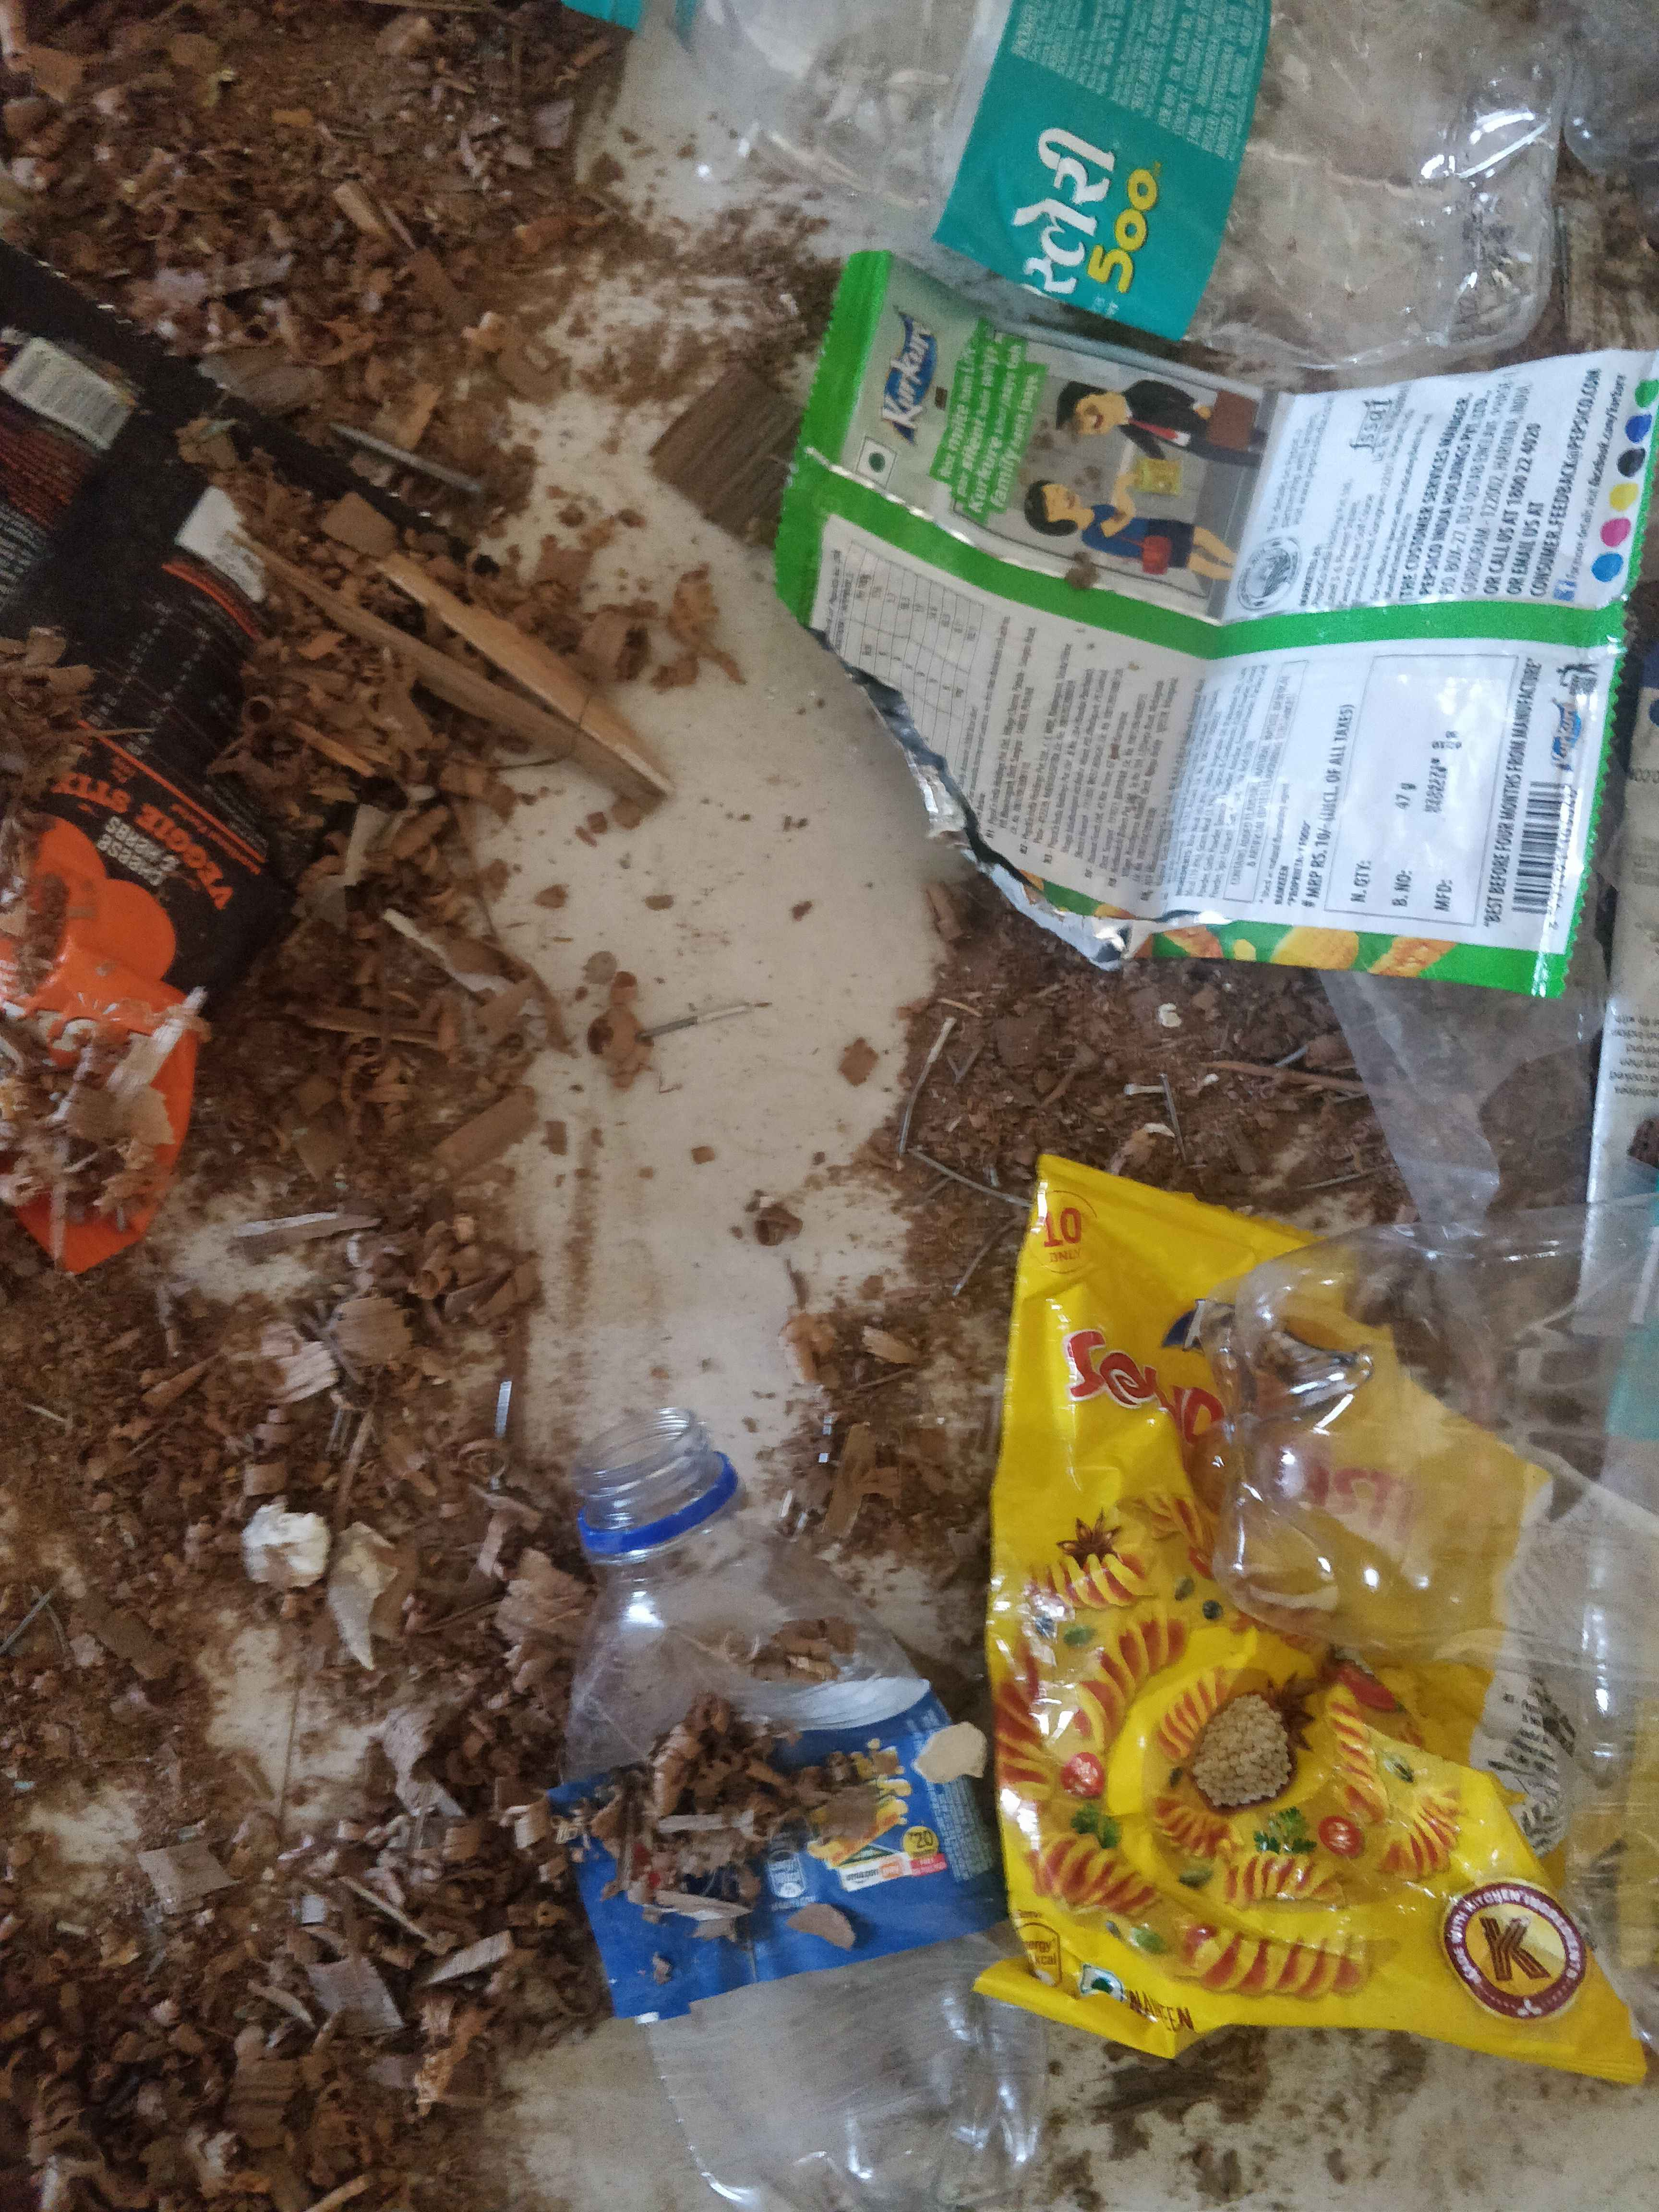Bisleri: (1000, 35, 1180, 333)
kurkure: (1148, 1268, 1408, 1430), (854, 277, 964, 477)
pepsi: (606, 1710, 993, 2000)
tooyumm: (0, 925, 192, 1094)
